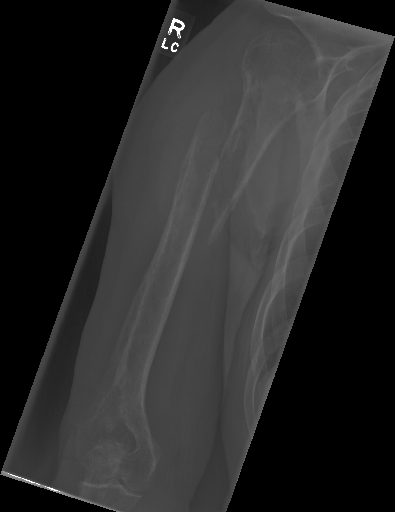fracture: (187, 84, 246, 253)
